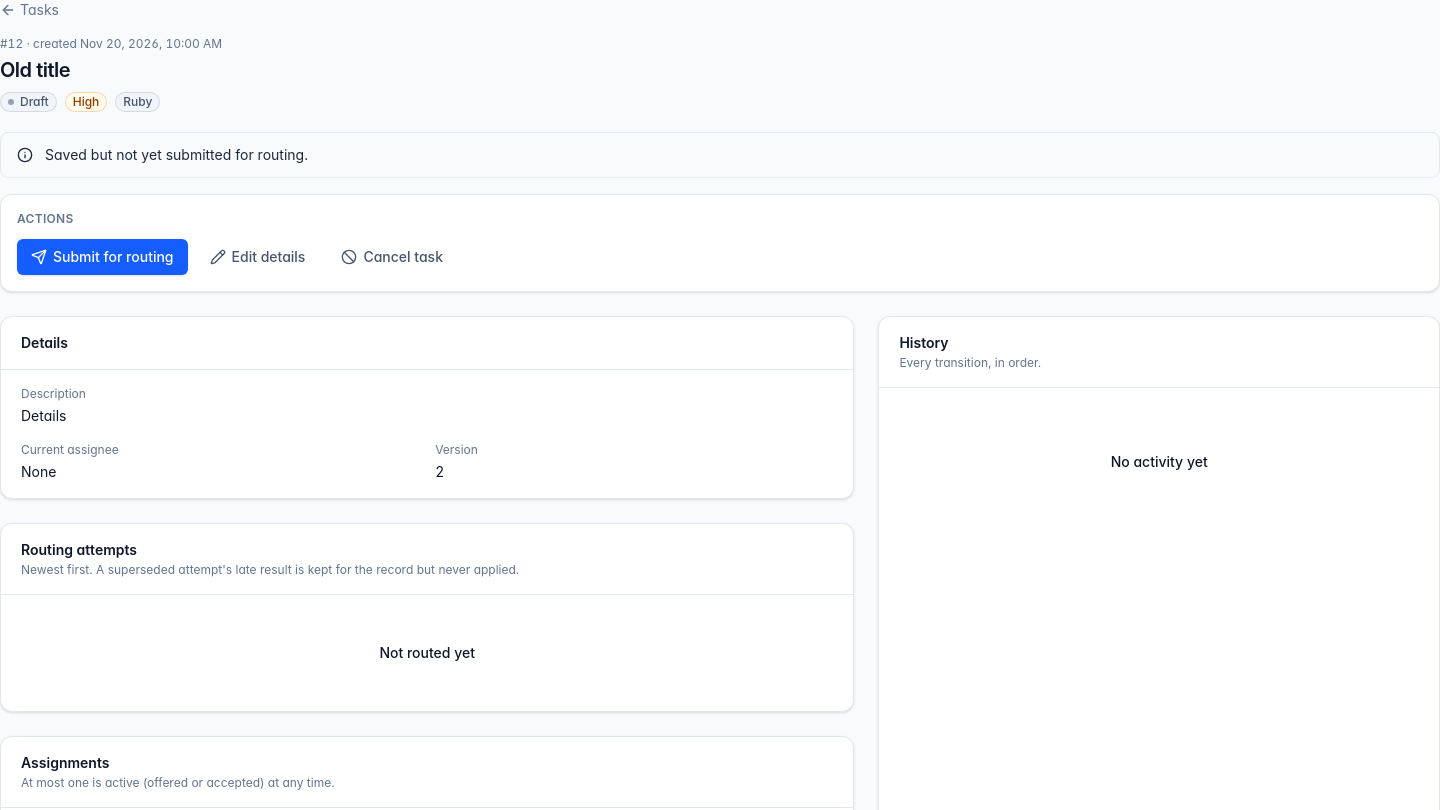
Test: TaskDetailPage — edge cases › edits task details, sending only the fields that changed
Click the button "Edit details": click(257, 257) [196, 239, 319, 275]
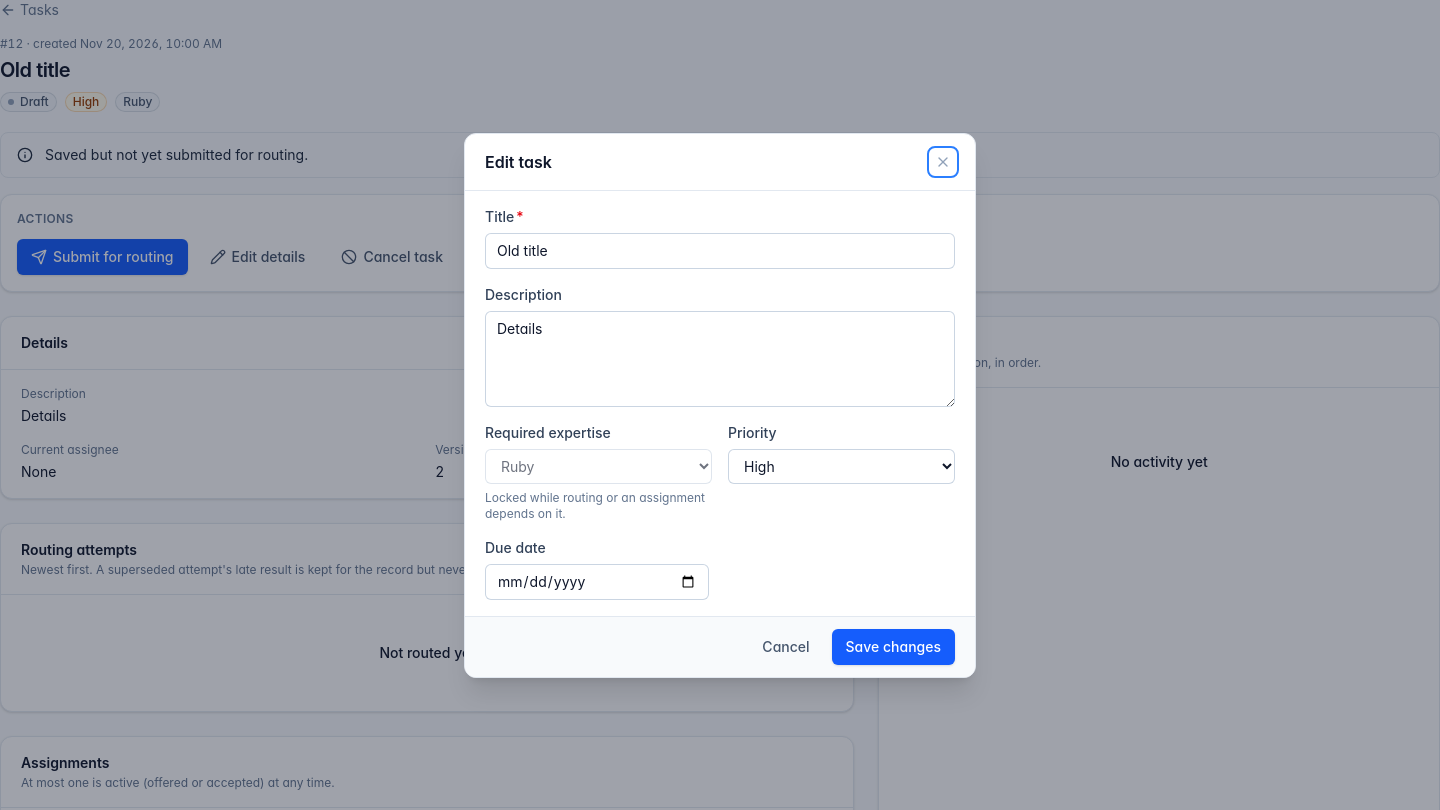
Expected: the dropdown labelled "Required expertise" is disabled, [485, 448, 712, 484]
Replace the text in the field labelled "Title*" with "New title": (720, 250) [485, 232, 955, 268]
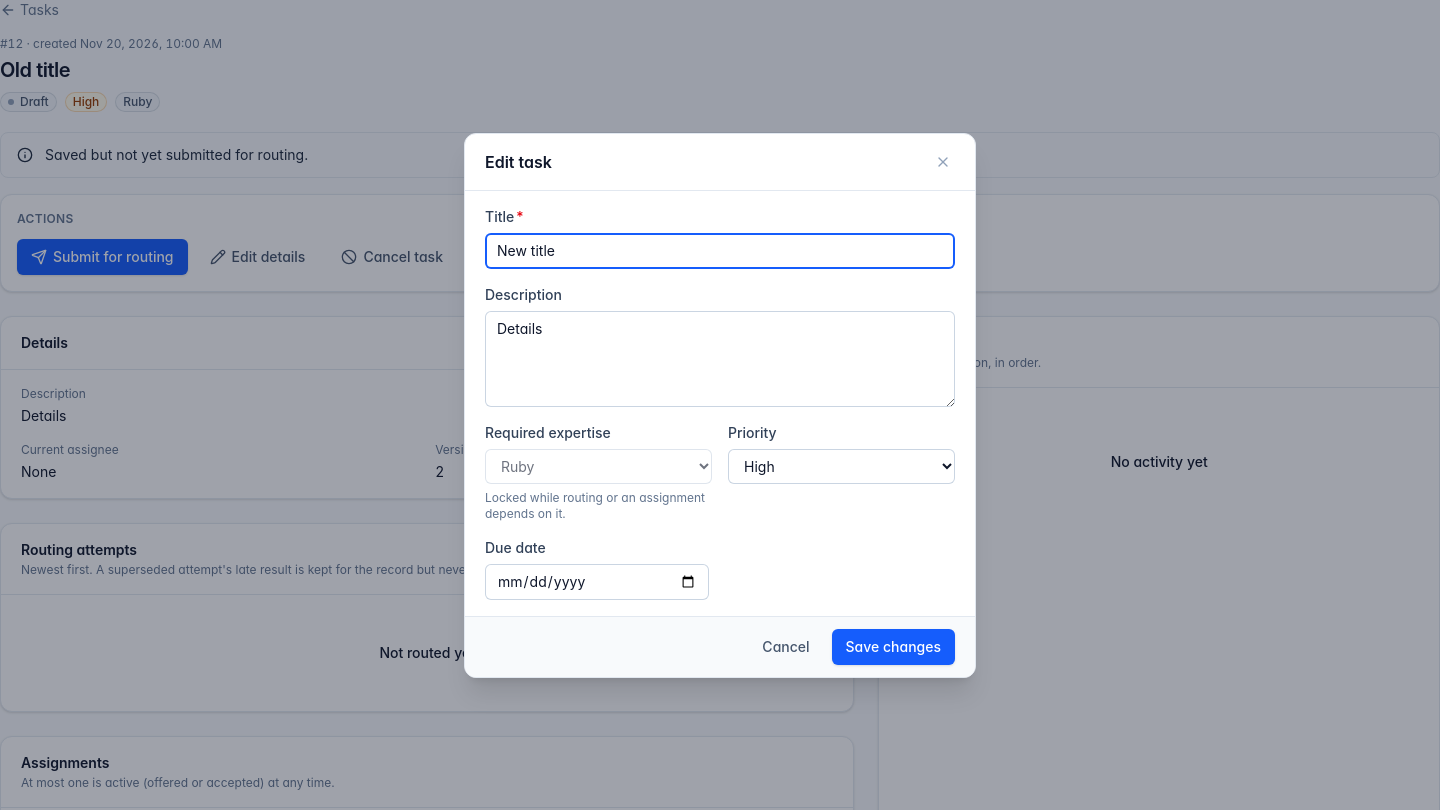
Click the button "Save changes": click(893, 646) [832, 628, 955, 664]
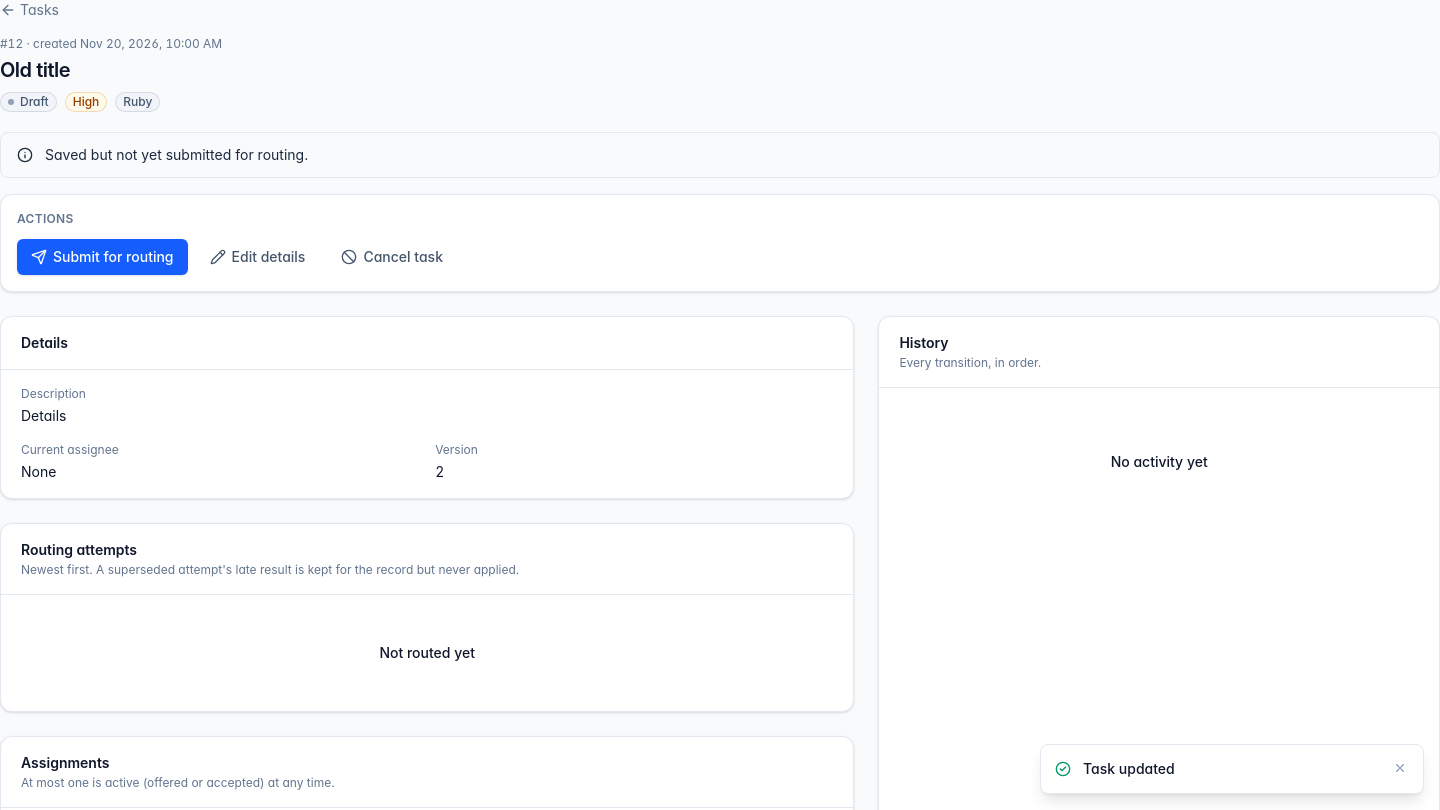
Expected: the text "Task updated" is shown, [1083, 760, 1175, 777]
